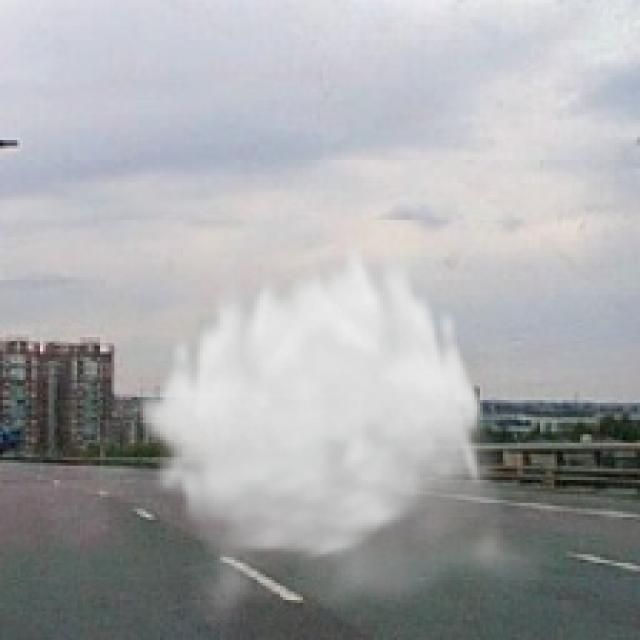smoke: (134, 234, 560, 637)
